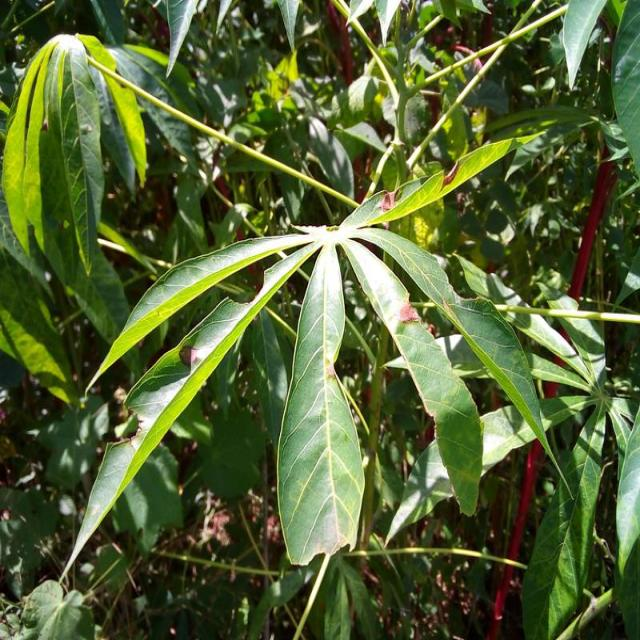cassava leaf: (60, 139, 561, 580), (275, 240, 365, 566)
